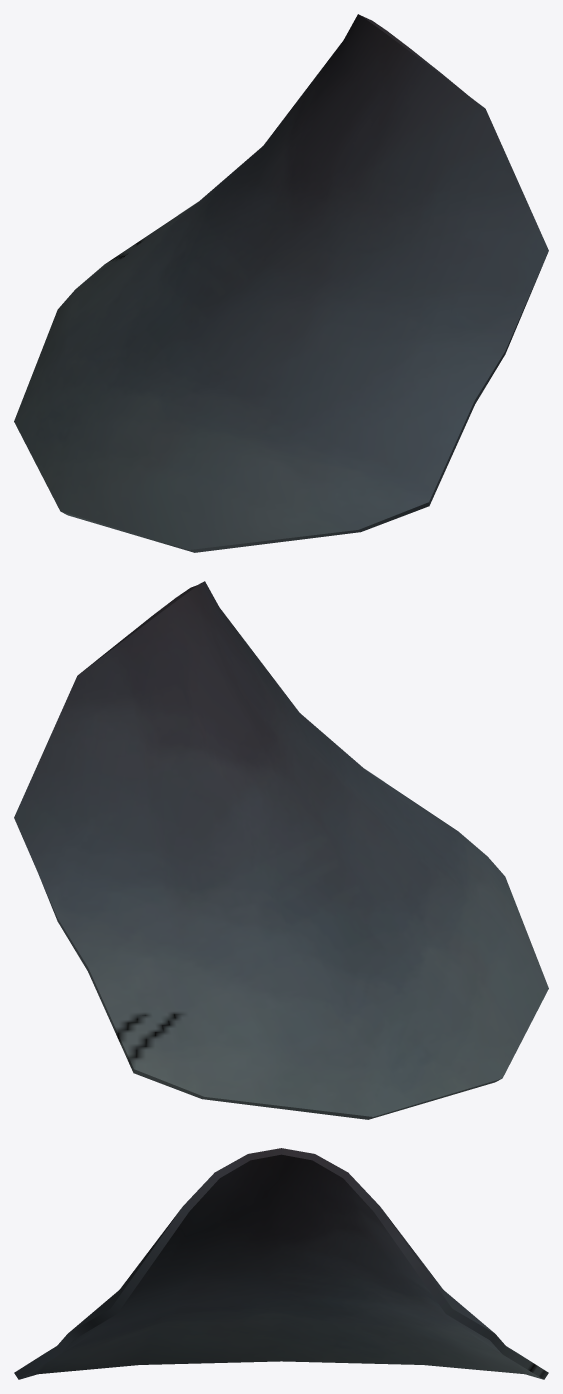
Rendered from jug_gib_2.fbx.
The picture shows the model from 3 angles, top to bottom: view 1: azimuth 30°, elevation 25°; view 2: azimuth 150°, elevation 25°; view 3: azimuth 270°, elevation 25°; orthographic projection. The views are drawn at different scales.
Parts seen in each view (by area): view 1: jug_gib_2; view 2: jug_gib_2; view 3: jug_gib_2.
Part boxes in pixels (box(x1,y1,x2,y2)): jug_gib_2: box(14, 14, 548, 552); jug_gib_2: box(14, 581, 548, 1119); jug_gib_2: box(14, 1148, 548, 1379).
Size of the model in its own units: 86.47 by 87.89 by 126.
